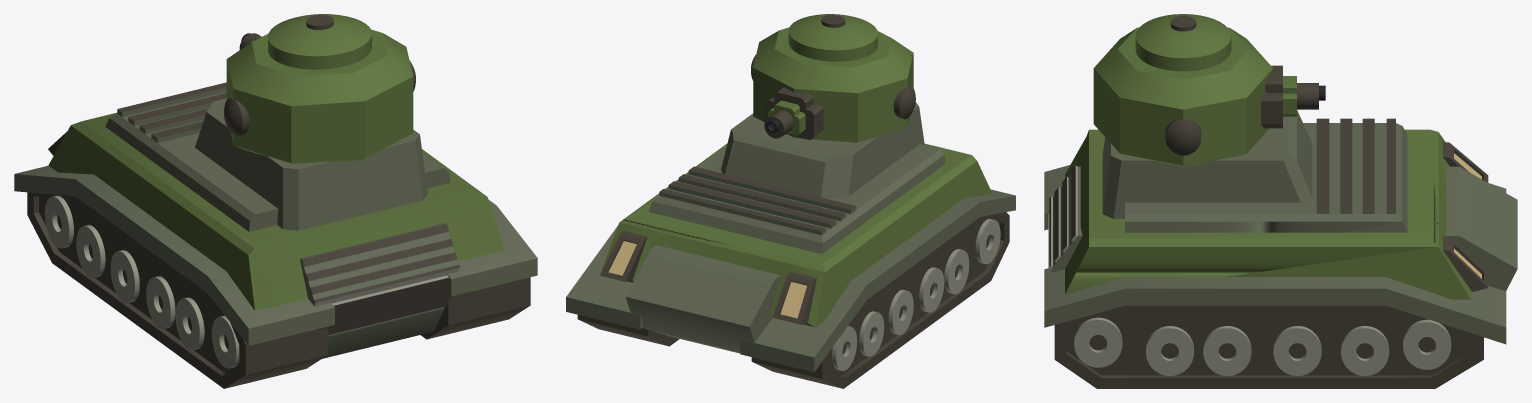
The model's file is tower_12.fbx.
3 renders of one model, left to right at view 1: azimuth 30°, elevation 25°; view 2: azimuth 150°, elevation 25°; view 3: azimuth 270°, elevation 25°, orthographic. The views are drawn at different scales.
Visible parts, largest first — view 1: 空白; view 2: 空白; view 3: 空白.
Boxes of the visible parts, x1=… form: 空白: x1=14, y1=14, x2=537, y2=388; 空白: x1=566, y1=14, x2=1015, y2=388; 空白: x1=1044, y1=14, x2=1517, y2=388.
Bounding box in the file's own units: 58.75 × 58.68 × 84.6.
